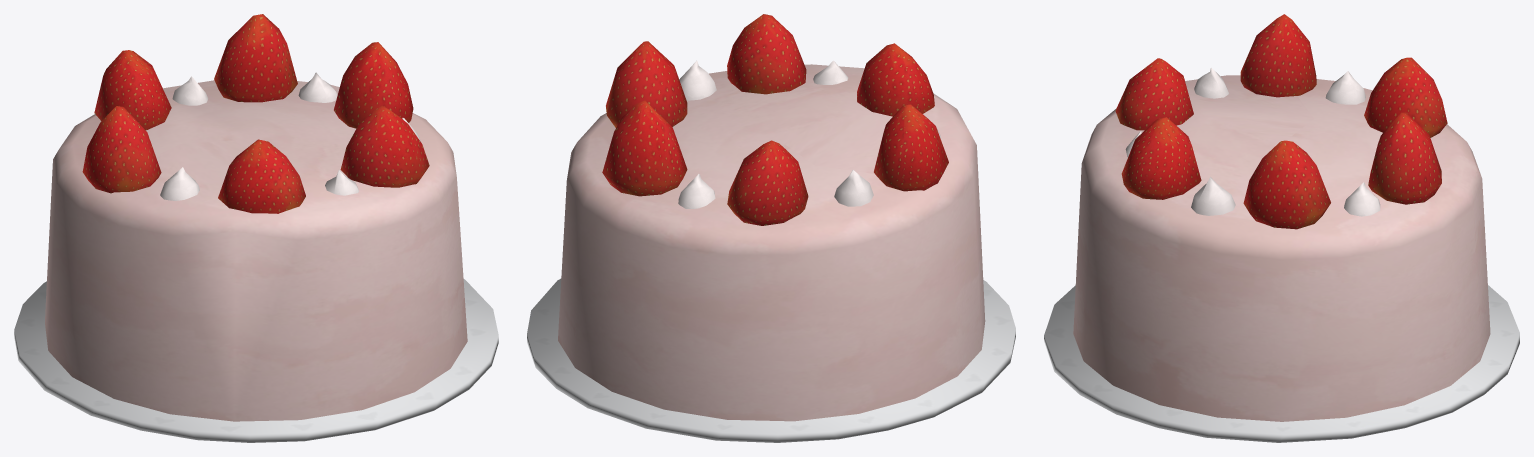
The model's file is Cake.fbx.
3 renders of one model, left to right at view 1: azimuth 30°, elevation 25°; view 2: azimuth 150°, elevation 25°; view 3: azimuth 270°, elevation 25°, orthographic. The views are drawn at different scales.
Visible parts, largest first — view 1: Cake; view 2: Cake; view 3: Cake.
Part boxes in pixels (x1=…): Cake: x1=14, y1=14, x2=498, y2=442; Cake: x1=527, y1=14, x2=1015, y2=442; Cake: x1=1044, y1=14, x2=1519, y2=442.
Bounding box in the file's own units: 199 × 121 × 199.
